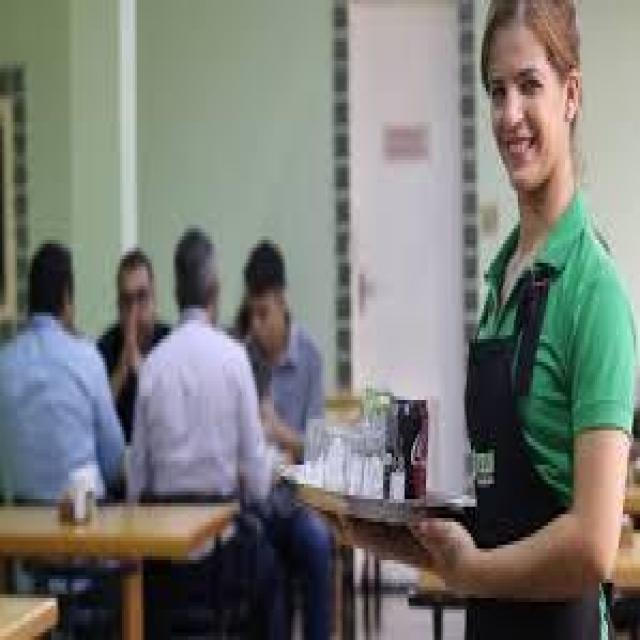person: (447, 0, 631, 632), (130, 228, 272, 632), (227, 240, 362, 636), (0, 244, 118, 590), (90, 252, 182, 449)
